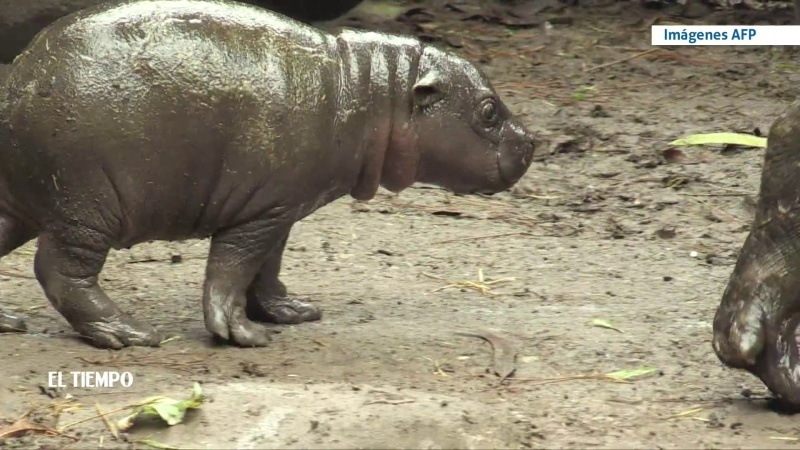hipopotamo: (1, 1, 557, 359)
